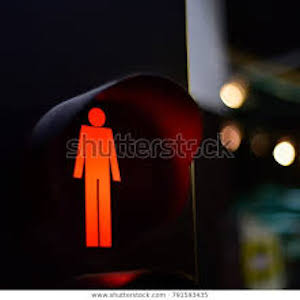red: (75, 105, 139, 252)
